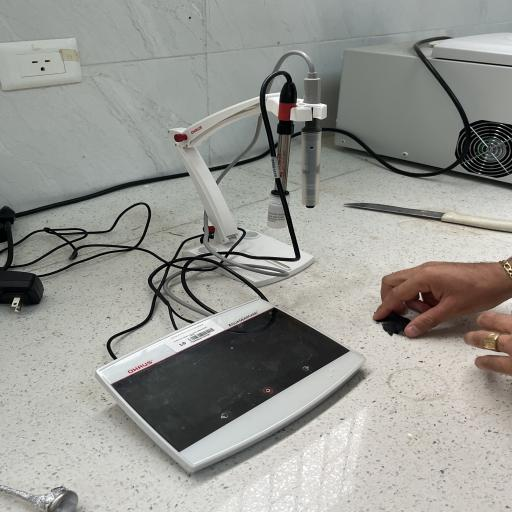Phmetro_Ohaus: (80, 290, 377, 478)
